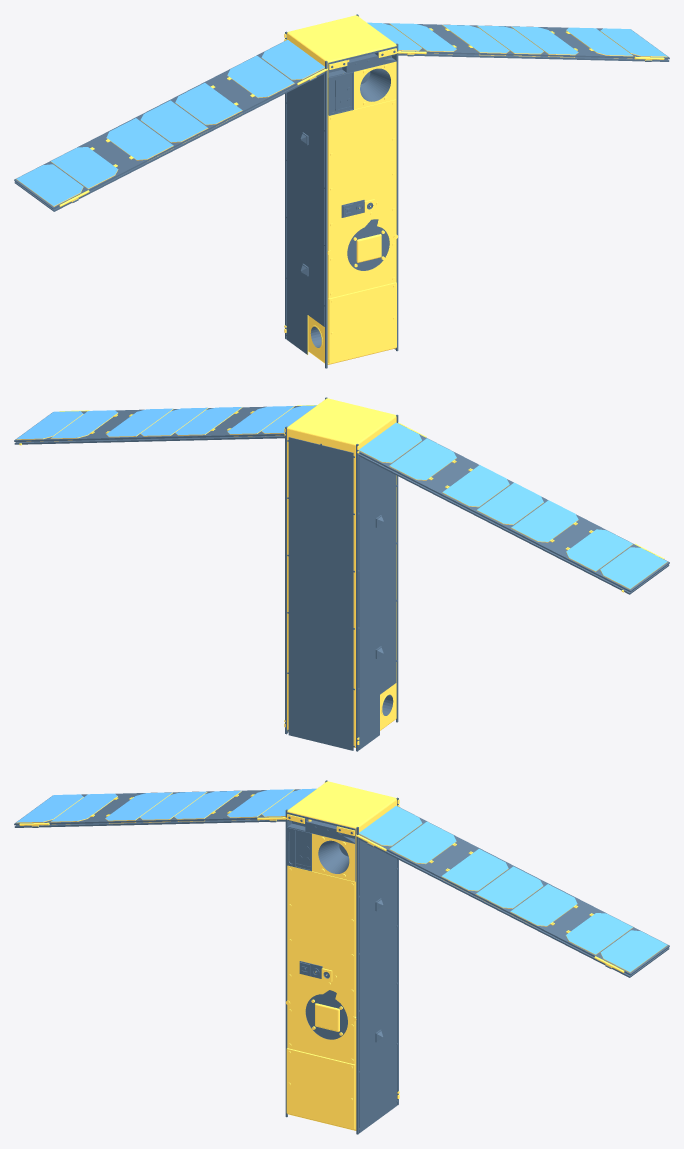
The model's file is nasa-cubesat-icecube.glb.
3 renders of one model, top to bottom at view 1: azimuth 30°, elevation 25°; view 2: azimuth 150°, elevation 25°; view 3: azimuth 330°, elevation 25°, orthographic.
Visible parts, largest first — view 1: Layer_0, Layer_3, Layer_5, Layer_2, Layer_4; view 2: Layer_0, Layer_3, Layer_5, Layer_2, Layer_4; view 3: Layer_0, Layer_5, Layer_3, Layer_4, Layer_2.
Part boxes in pixels (x1,y1,x2,y2): Layer_0: [284, 14, 398, 368]; Layer_3: [14, 40, 328, 209]; Layer_5: [367, 22, 669, 60]; Layer_2: [14, 70, 329, 211]; Layer_4: [393, 53, 669, 61]; Layer_0: [284, 397, 398, 751]; Layer_3: [358, 422, 669, 592]; Layer_5: [14, 405, 317, 441]; Layer_2: [358, 453, 669, 594]; Layer_4: [14, 435, 284, 445]; Layer_0: [285, 780, 399, 1134]; Layer_5: [355, 806, 669, 975]; Layer_3: [14, 788, 316, 826]; Layer_4: [354, 836, 669, 977]; Layer_2: [14, 819, 290, 827].
Size of the model in its own units: 0.7326 by 0.3482 by 0.089.
